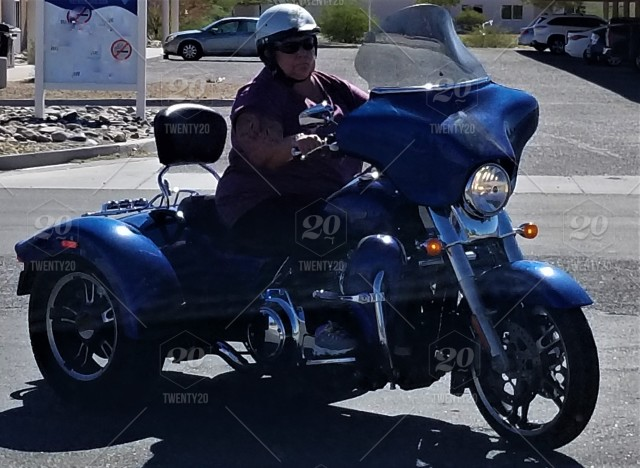helmet: (233, 1, 343, 105)
